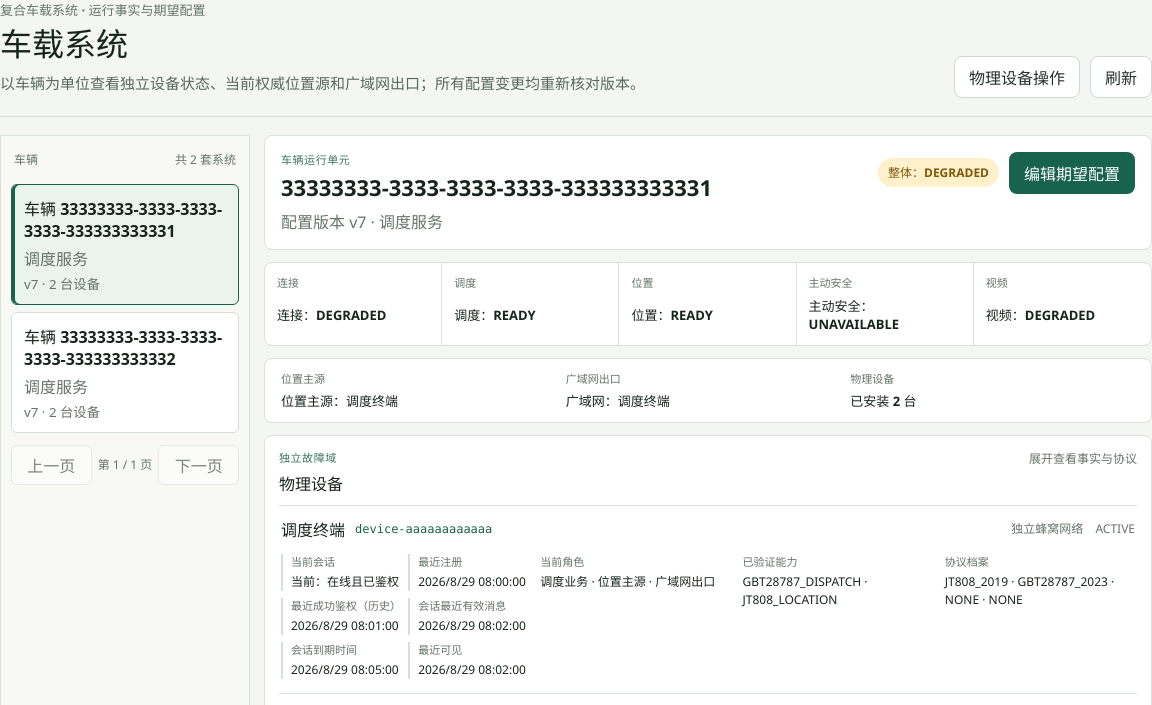
Scenario: OnboardSystemManagementPage › marks the draft stale and forbids apply when the selection changes or fresh version differs
Expected: the text "整体：DEGRADED" is shown, [878, 158, 999, 187]
Click the button "编辑期望配置" at coordinates (1072, 173), box [1009, 152, 1135, 194]
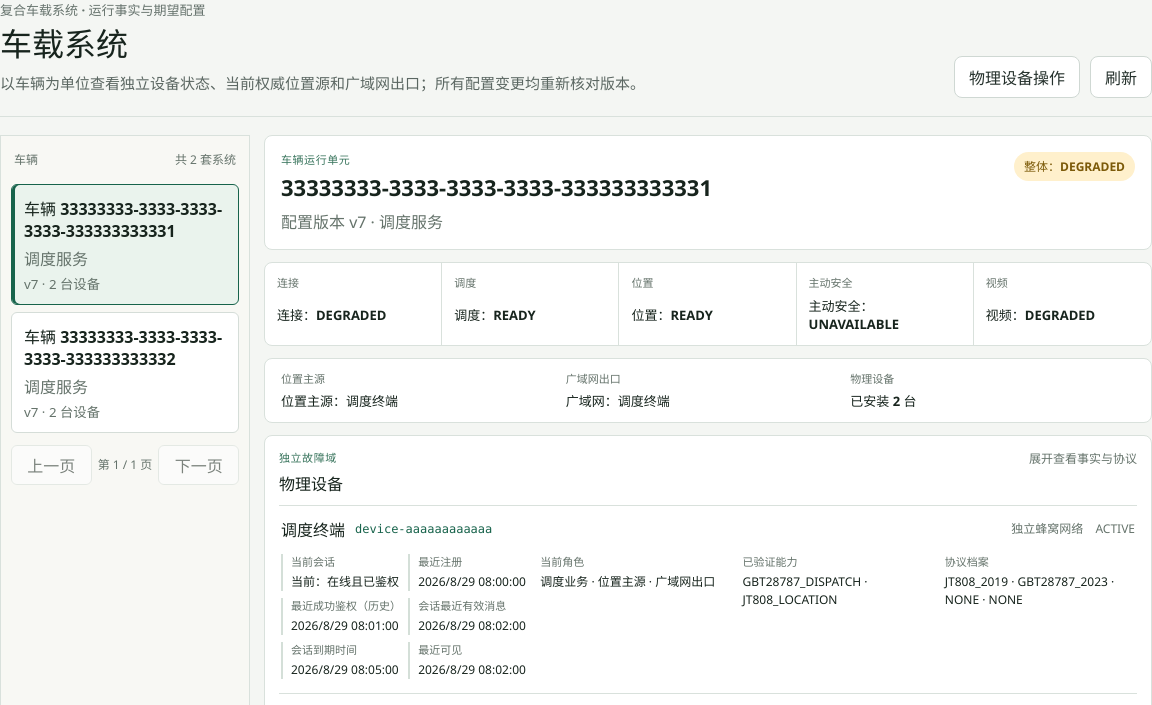
Click the button "车辆 33333333-3333-3333-3333-333333333332 调度服务 v7 · 2 台设备" at coordinates (125, 372), box [11, 312, 239, 433]
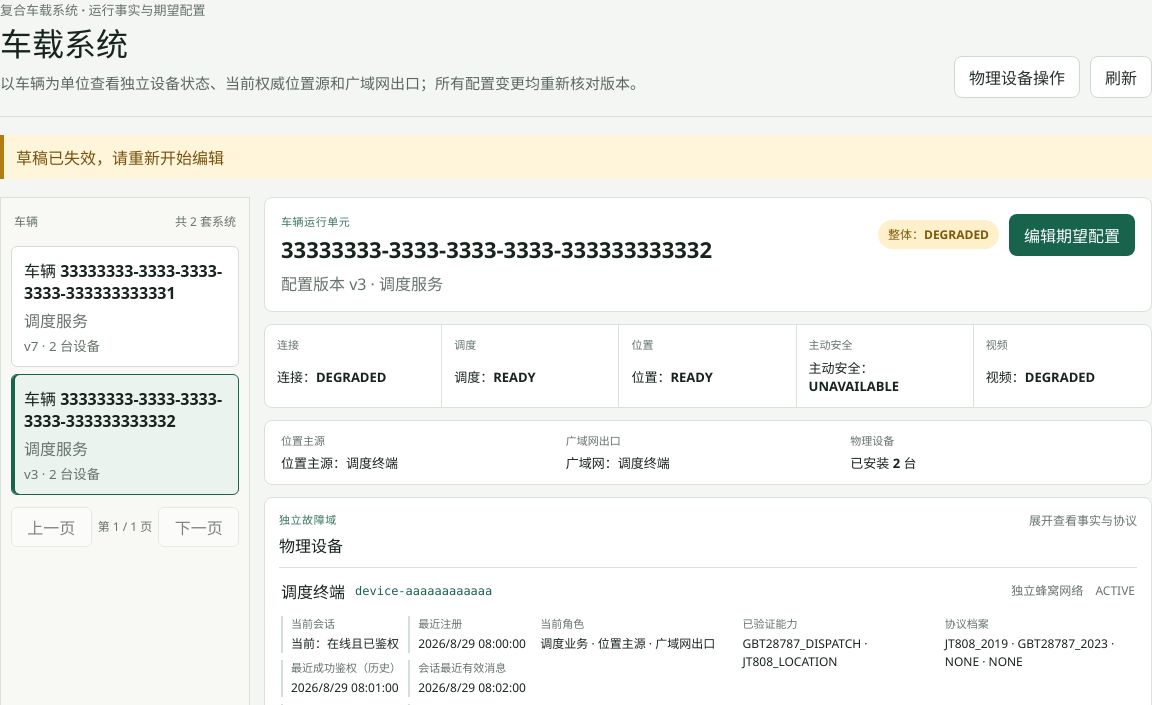
Expected: the button "应用配置" is not shown
Expected: the message reads "草稿已失效，请重新开始编辑", [16, 147, 224, 169]
Click the button "编辑期望配置" at coordinates (1072, 235), box [1009, 214, 1135, 256]
(page scrolled)
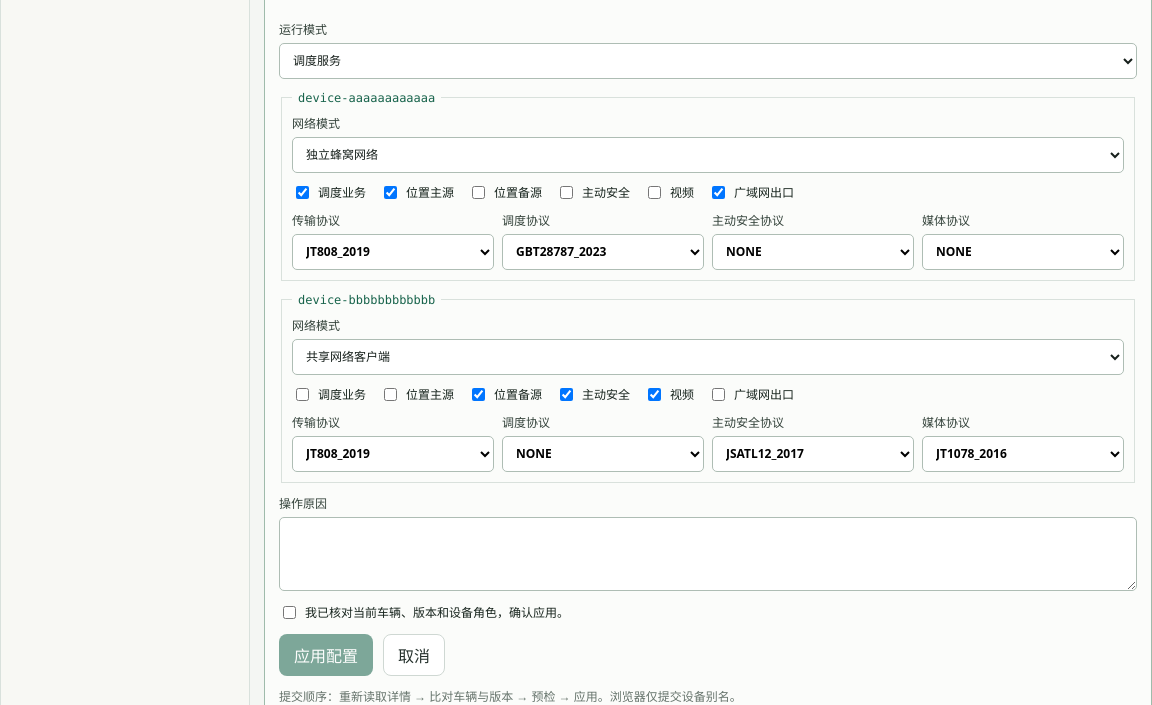
Type "版本核对" into the text box labelled "操作原因" at coordinates (708, 554), box [279, 517, 1137, 591]
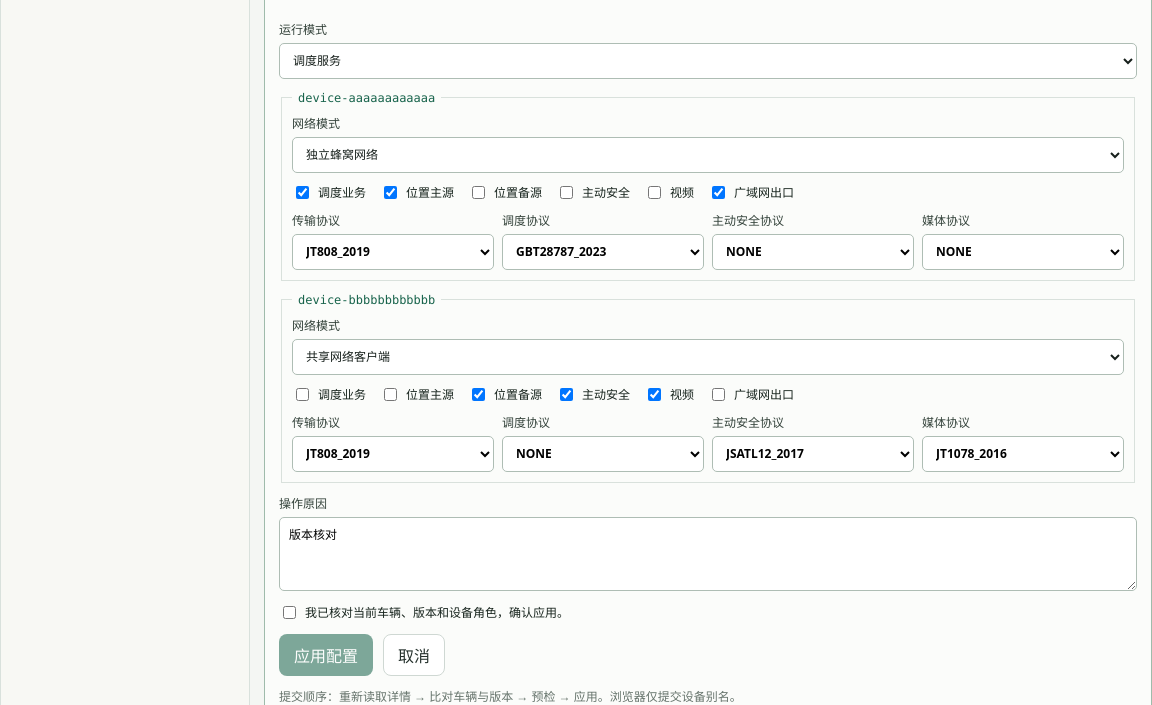
Click the checkbox labelled "我已核对当前车辆、版本和设备角色，确认应用。" at coordinates (290, 612), box [283, 606, 296, 619]
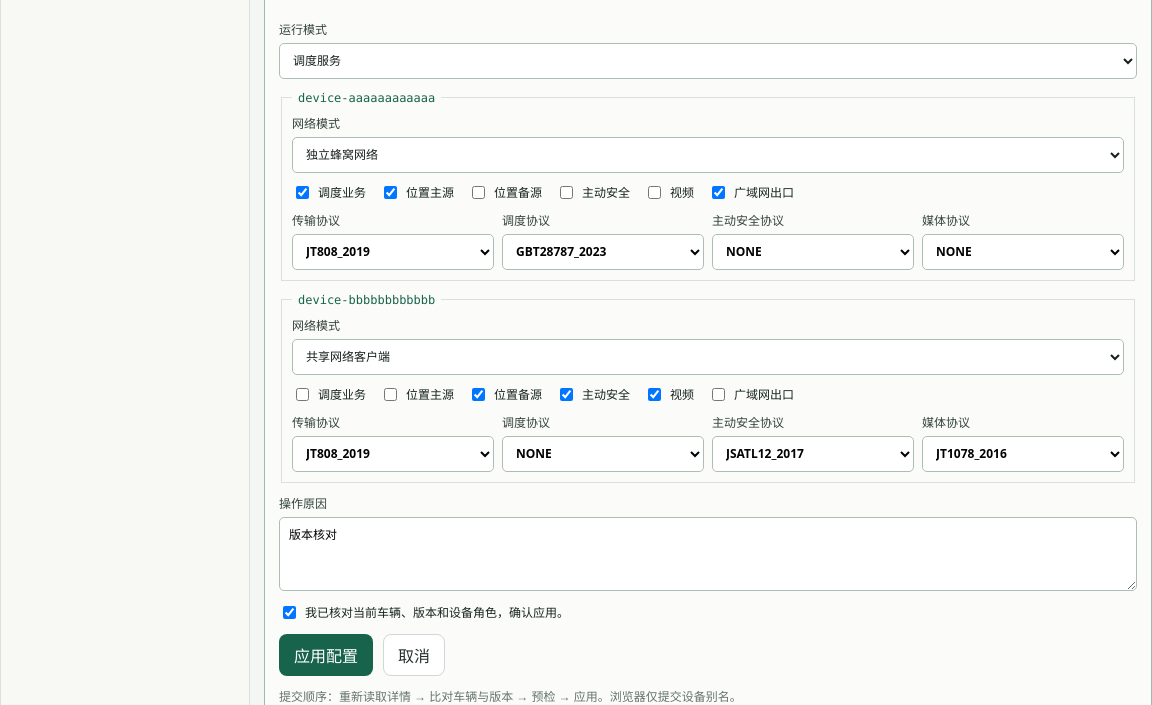
Click the button "应用配置" at coordinates (326, 655), box [279, 634, 373, 676]
(page scrolled)
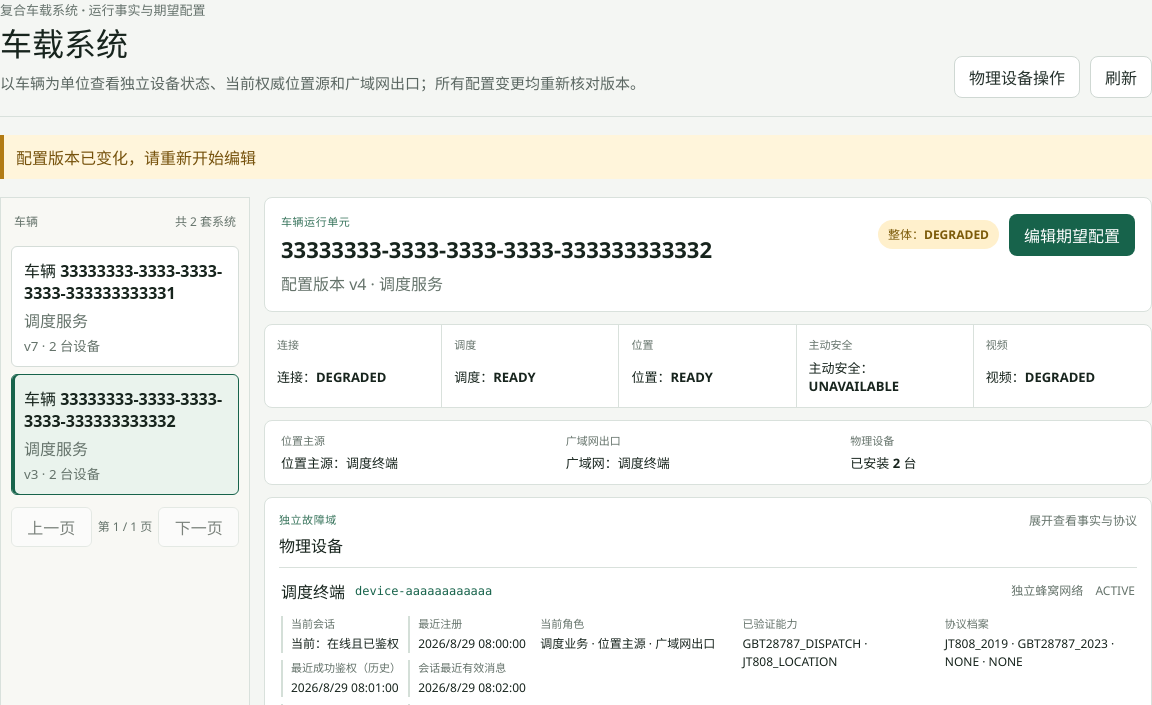
Expected: the message reads "配置版本已变化，请重新开始编辑", [16, 147, 256, 169]
